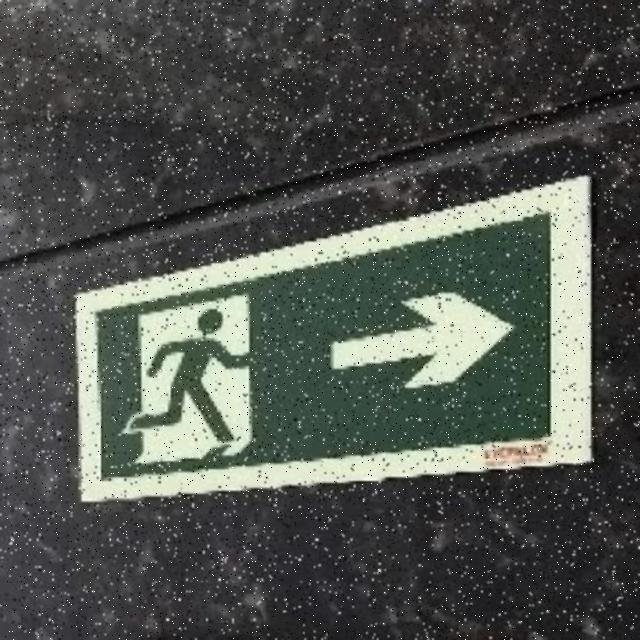emergency_exit: (72, 174, 595, 503)
